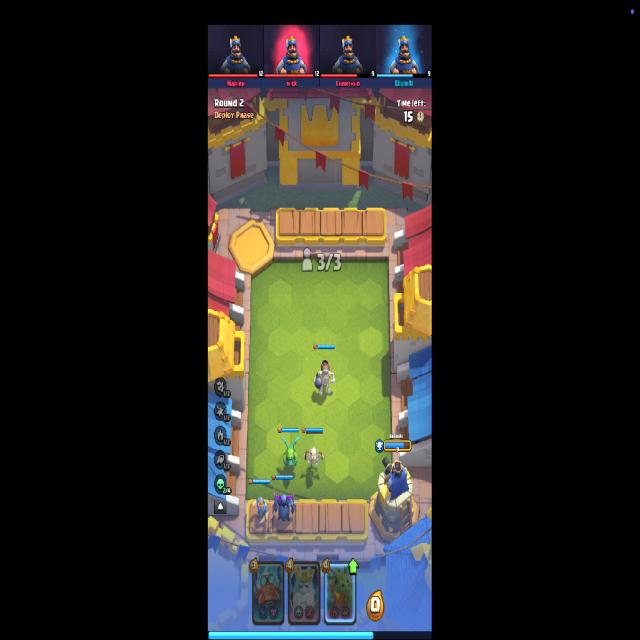baby_dragon: (280, 436, 300, 468)
card_baby_drag: (324, 560, 357, 626)
card_electro_giant: (251, 560, 284, 626)
card_royal_ghost: (288, 560, 320, 626)
giant_skeleton: (315, 358, 335, 398)
knight: (251, 497, 269, 526)
pekka: (272, 492, 296, 528)
skeleton_dragon: (304, 446, 324, 468)
